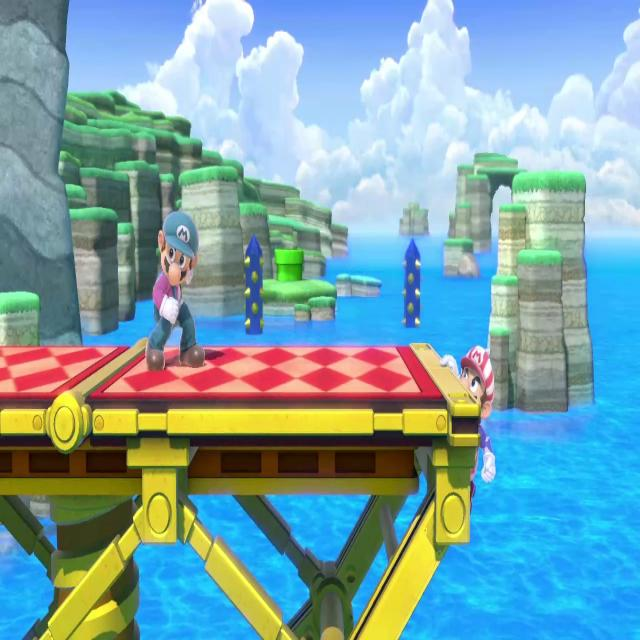Mario: (433, 340, 498, 525), (141, 206, 210, 375)
